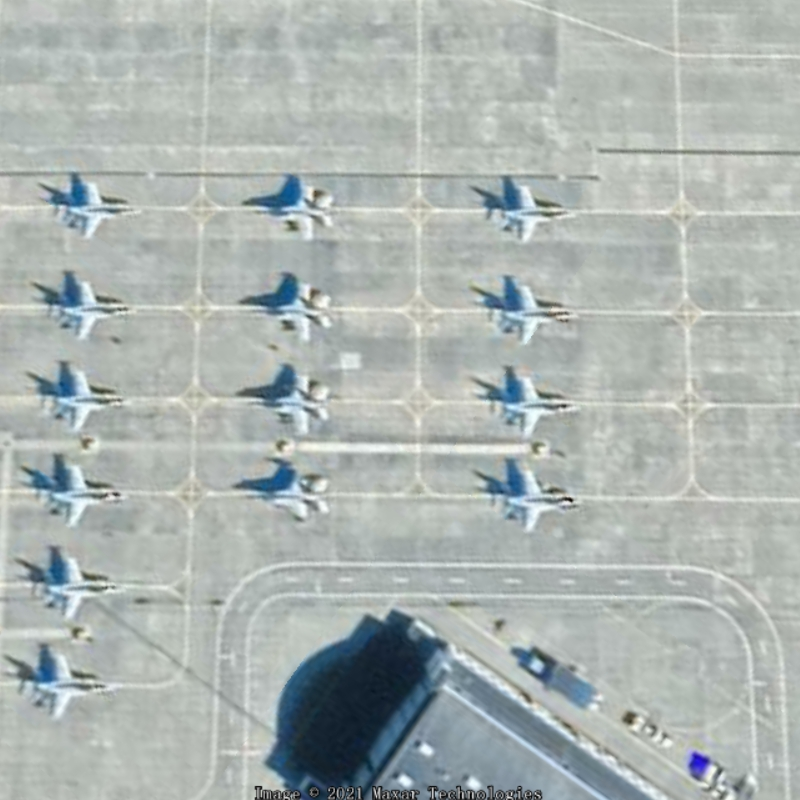A16: (489, 456, 589, 540), (30, 545, 128, 629), (19, 642, 123, 717), (39, 358, 130, 439), (33, 455, 126, 531), (42, 272, 136, 346), (484, 175, 576, 250), (242, 175, 341, 244), (239, 366, 333, 438), (242, 276, 339, 345), (481, 275, 572, 348), (241, 458, 336, 527), (491, 370, 583, 439), (54, 175, 142, 244)
